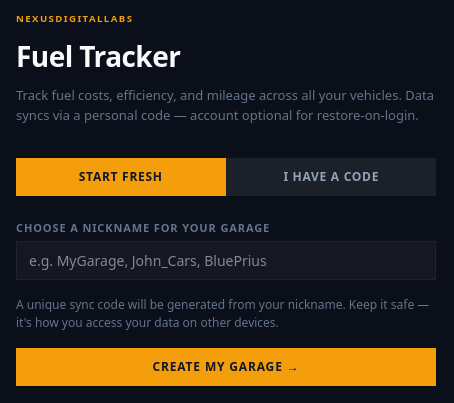
FuelTrackerClient — "I Have a Code" flow › shows "No garage found" error for an invalid code (API returns empty array)
Click the button "I Have a Code" at (331, 177), box x1=226 y1=158 x2=436 y2=196
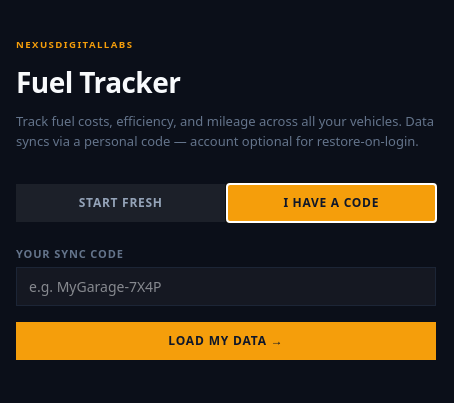
Type "wrongname-zzzz" into the field with placeholder "e.g. MyGarage-7X4P" at (226, 286), box x1=16 y1=267 x2=436 y2=306
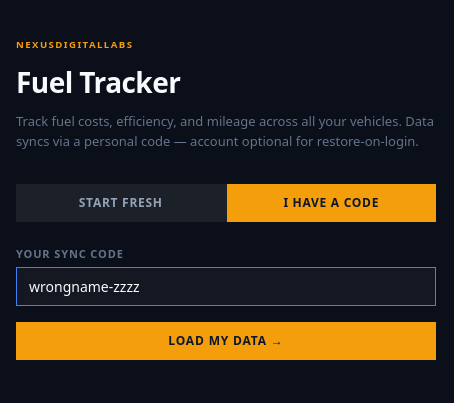
Click the button "Load My Data →" at (226, 341), box x1=16 y1=322 x2=436 y2=360
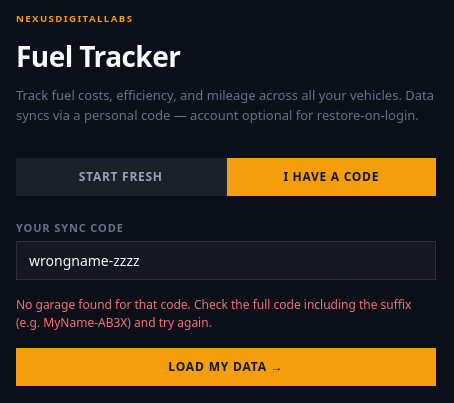
Check: the text "No garage found" is shown, box x1=16 y1=296 x2=412 y2=331
